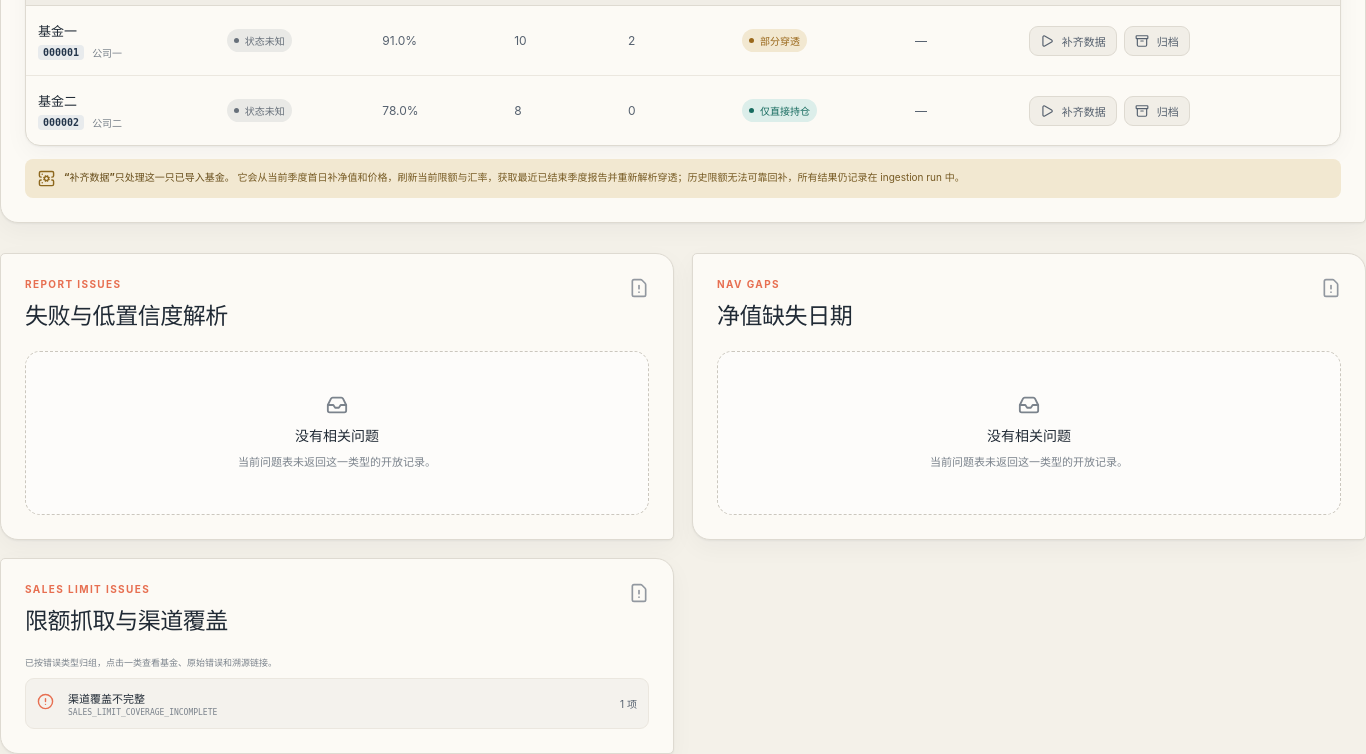
Test: DataOpsPage purchase-limit coverage › shows latest-day coverage, every state category, and limit quality issues
(page scrolled)
Expected: the text "91.0%" is shown, [370,6,502,76]
Expected: the text "部分穿透" is shown, [742,29,807,52]
Step 1. Click the text "渠道覆盖不完整" → coordinates (106, 700), box [68,692,145,706]
(page scrolled)
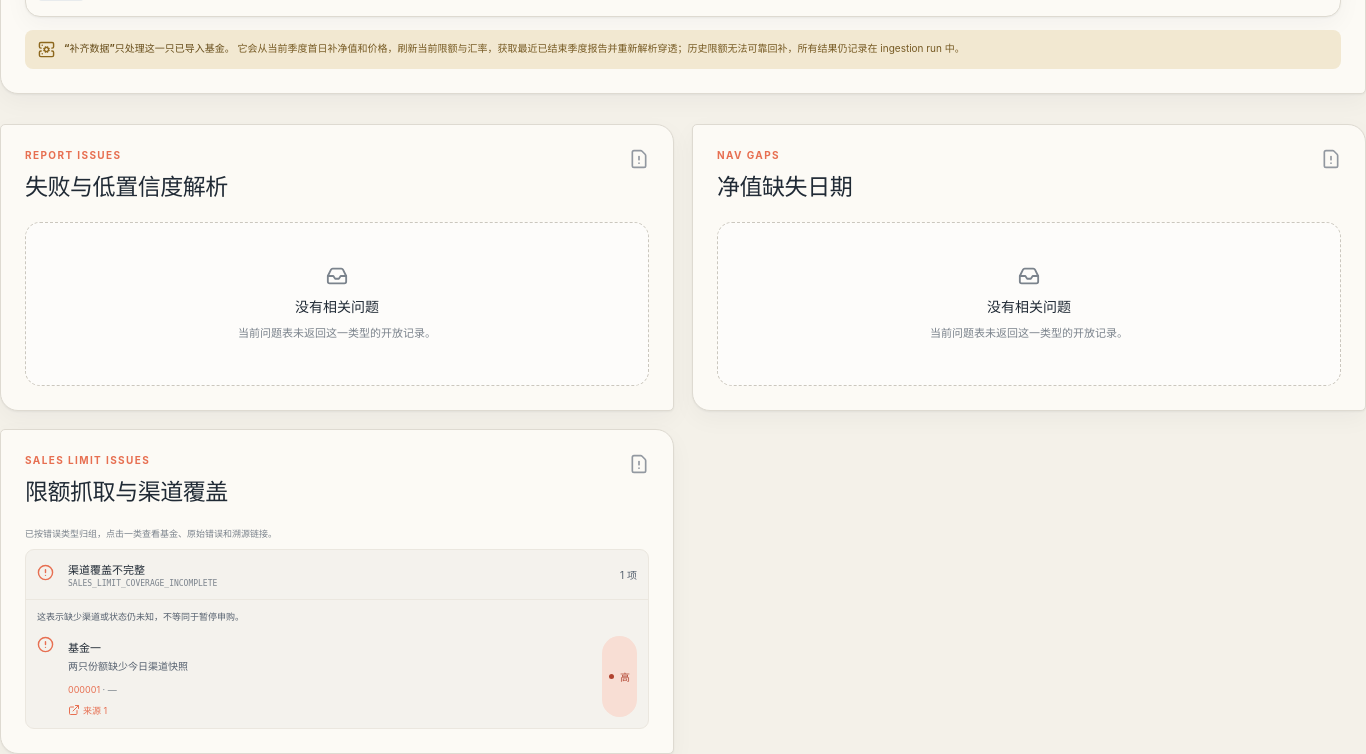
Now the text "两只份额缺少今日渠道快照" is shown, box [68,660,188,672]
